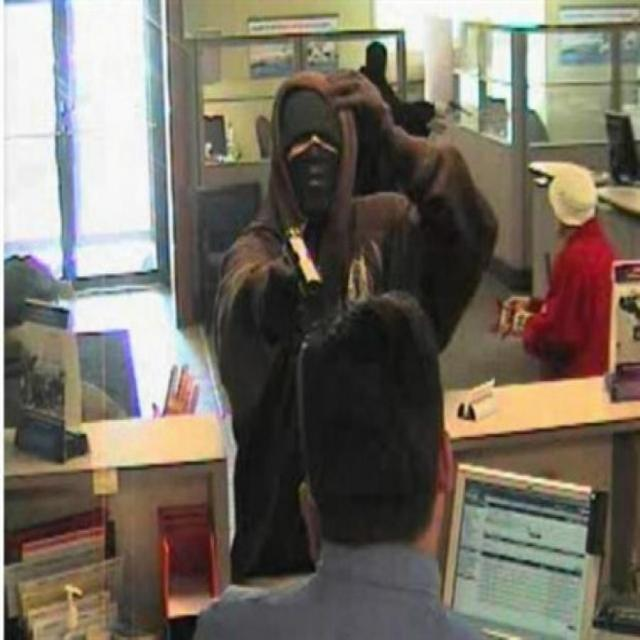pistol: (281, 228, 325, 302)
